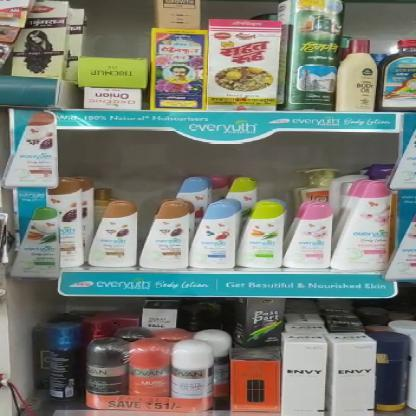Everyuth Naturals Body Lotion Nourishing Cocoa 200ml: (90, 200, 142, 269), (145, 200, 193, 269)
Everyuth Naturals Body Lotion Rejuvenating Flora 200ml: (336, 178, 395, 271), (284, 201, 334, 270)
Everyuth Naturals Body Lotion Soothing Citrus 200ml: (238, 202, 287, 272)
Everyuth Naturals Body Lotion Sun Care Berries SPF 15 200ml: (195, 200, 242, 271)
